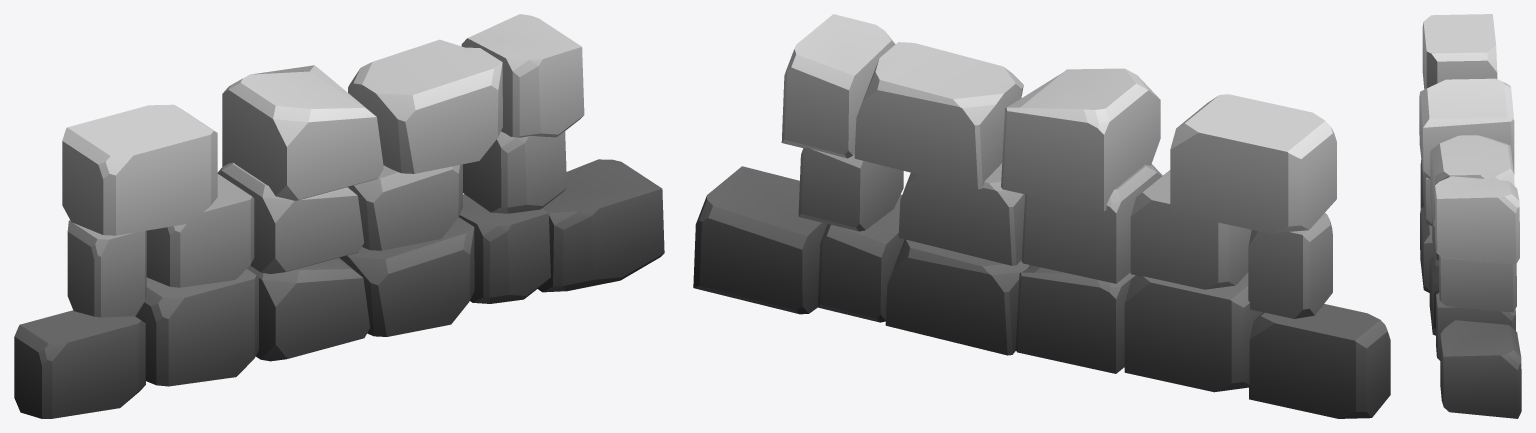
The model's file is SM_Stack_Stone.fbx.
3 renders of one model, left to right at view 1: azimuth 30°, elevation 25°; view 2: azimuth 150°, elevation 25°; view 3: azimuth 270°, elevation 25°, orthographic. The views are drawn at different scales.
Visible parts, largest first — view 1: Stone_wall; view 2: Stone_wall; view 3: Stone_wall.
Boxes of the visible parts, x1,y1,x2,y2 form: Stone_wall: [14, 14, 664, 418]; Stone_wall: [693, 14, 1390, 418]; Stone_wall: [1419, 14, 1521, 418].
Bounding box in the file's own units: 6.73 × 2.68 × 1.24.
